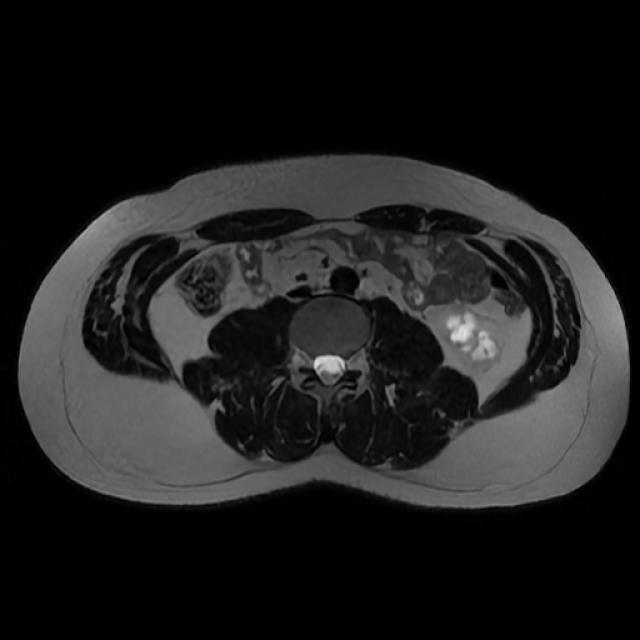sol: (440, 307, 505, 370)
